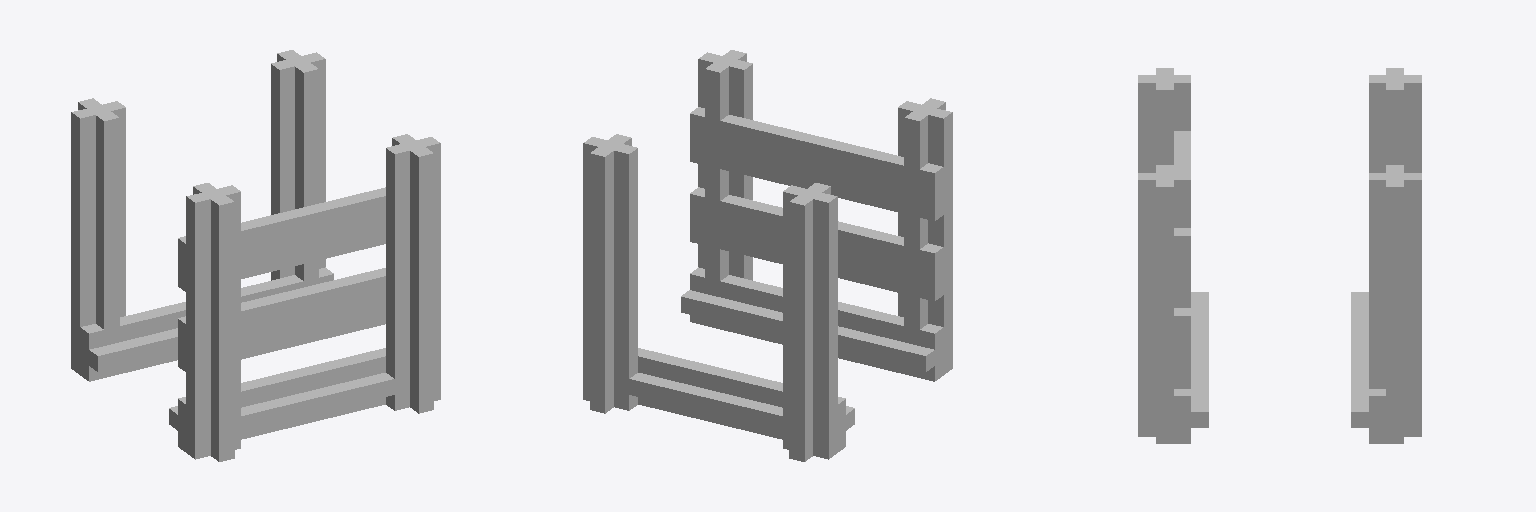
File: pole_scaffolding_ladder.obj
3 renders of one model, left to right at view 1: azimuth 30°, elevation 25°; view 2: azimuth 150°, elevation 25°; view 3: azimuth 270°, elevation 25°, orthographic.
Parts seen in each view (by area): view 1: node_0_0_0.005; view 2: node_0_0_0.005; view 3: node_0_0_0.005.
Boxes of the visible parts, <box> form: node_0_0_0.005: <box>71,50,440,461</box>; node_0_0_0.005: <box>583,50,952,461</box>; node_0_0_0.005: <box>1138,68,1421,443</box>.
Size of the model in its own units: 1 by 1 by 1.